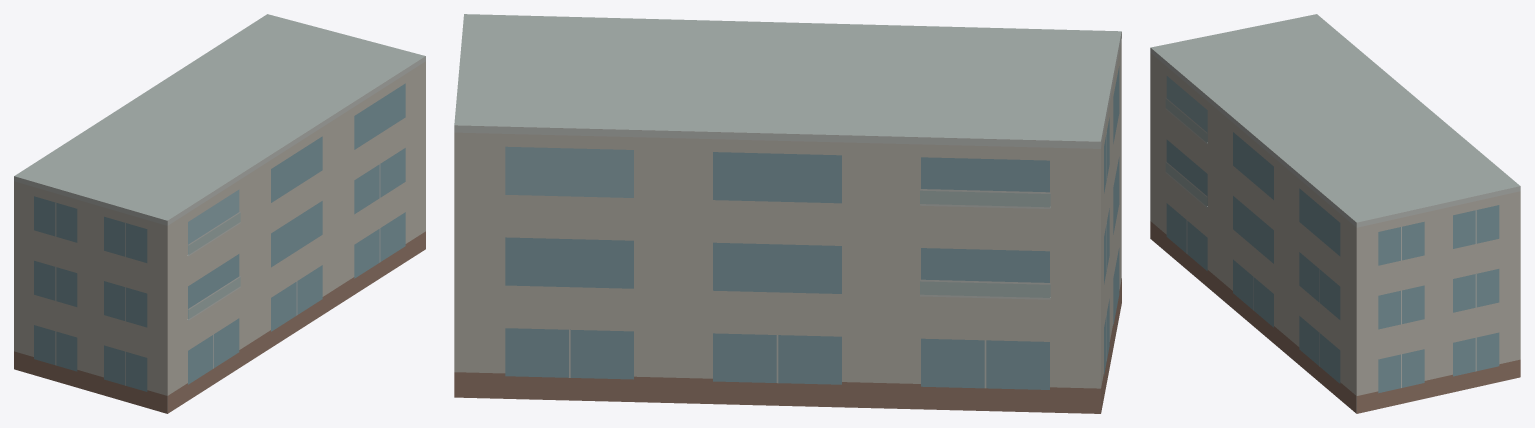
The model's file is survey-upis-32834935.glb.
3 views of the same model, side by side, from view 1: azimuth 30°, elevation 25°; view 2: azimuth 150°, elevation 25°; view 3: azimuth 270°, elevation 25° (orthographic). The views are drawn at different scales.
Visible parts, largest first — view 1: survey-upis-32834935.tmp; view 2: survey-upis-32834935.tmp; view 3: survey-upis-32834935.tmp.
Part boxes in pixels (x1,y1,x2,y2): survey-upis-32834935.tmp: [14, 14, 425, 413]; survey-upis-32834935.tmp: [454, 14, 1121, 413]; survey-upis-32834935.tmp: [1150, 14, 1520, 413].
Bounding box in the file's own units: 21.42 × 9.15 × 16.06.
